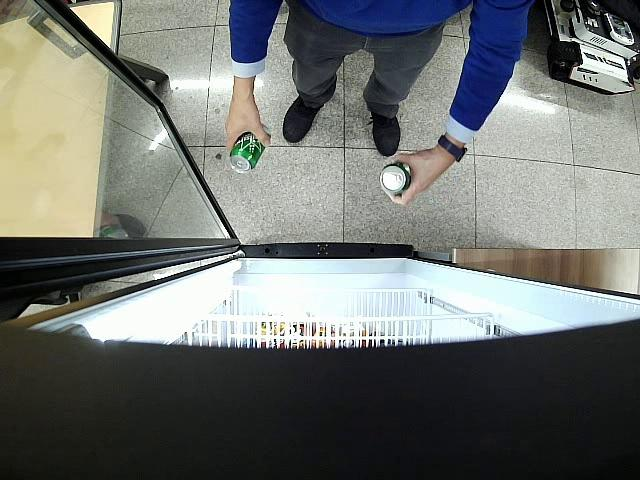00_hand: (388, 150, 450, 204), (226, 83, 271, 153)
12_chilsungCider: (230, 124, 271, 173), (379, 163, 411, 196)
